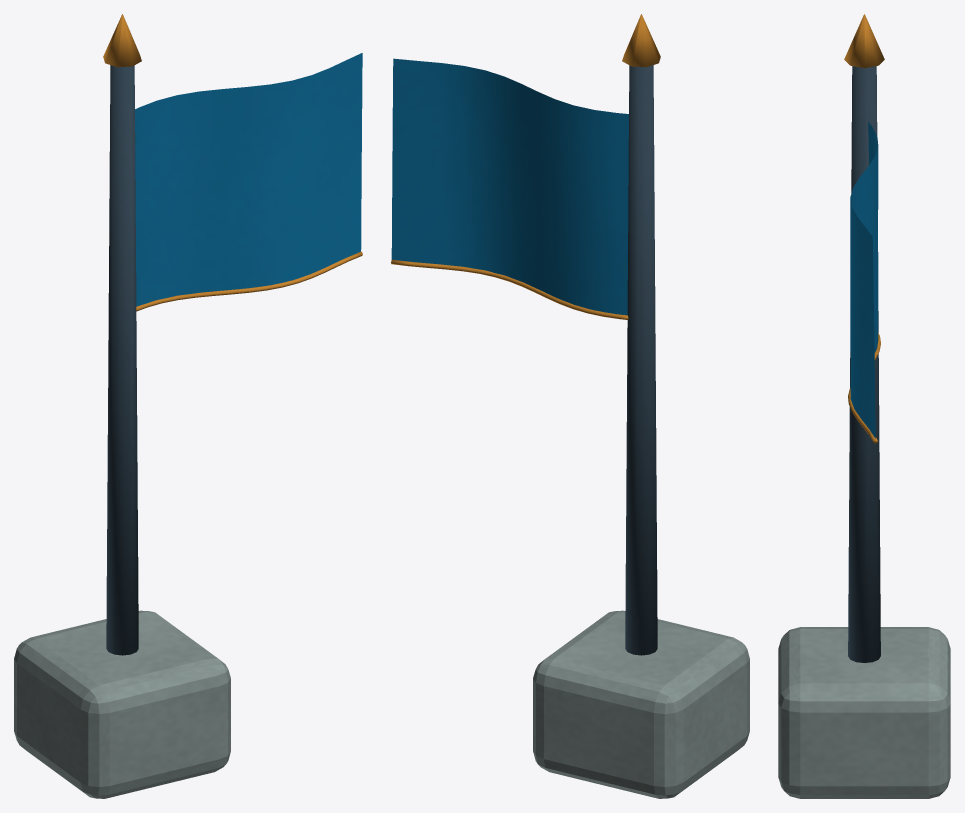
The model's file is SM_banner.fbx.
3 renders of one model, left to right at view 1: azimuth 30°, elevation 25°; view 2: azimuth 150°, elevation 25°; view 3: azimuth 270°, elevation 25°, orthographic.
Visible parts, largest first — view 1: SM_banner; view 2: SM_banner; view 3: SM_banner.
Part boxes in pixels (left/top/right/bottom): SM_banner: left=14, top=14, right=362, bottom=798; SM_banner: left=391, top=14, right=749, bottom=798; SM_banner: left=778, top=14, right=950, bottom=798.
Bounding box in the file's own units: 1.19 × 0.55 × 2.66.
